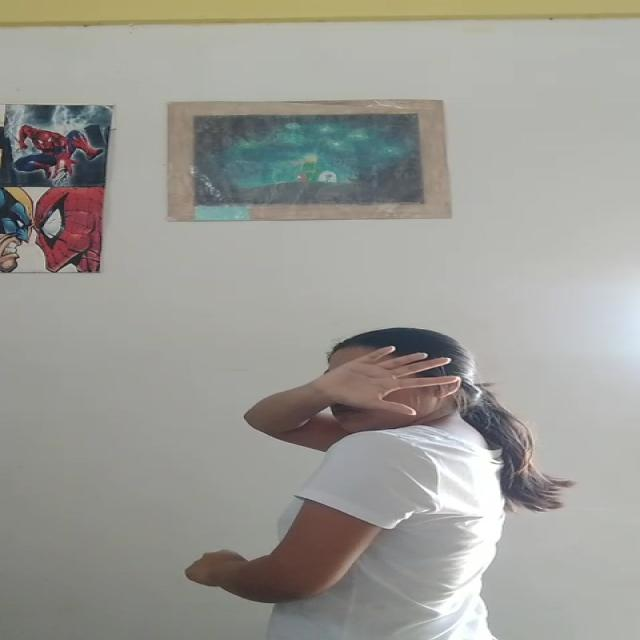7_mano_rostro: (296, 346, 462, 418)
